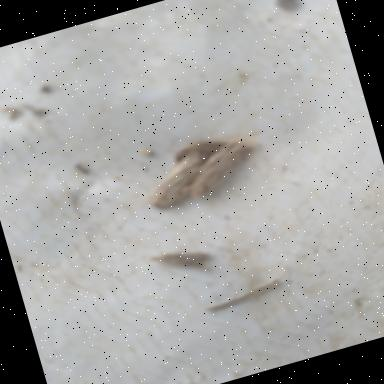pbw: (179, 134, 264, 201), (137, 146, 218, 214)
